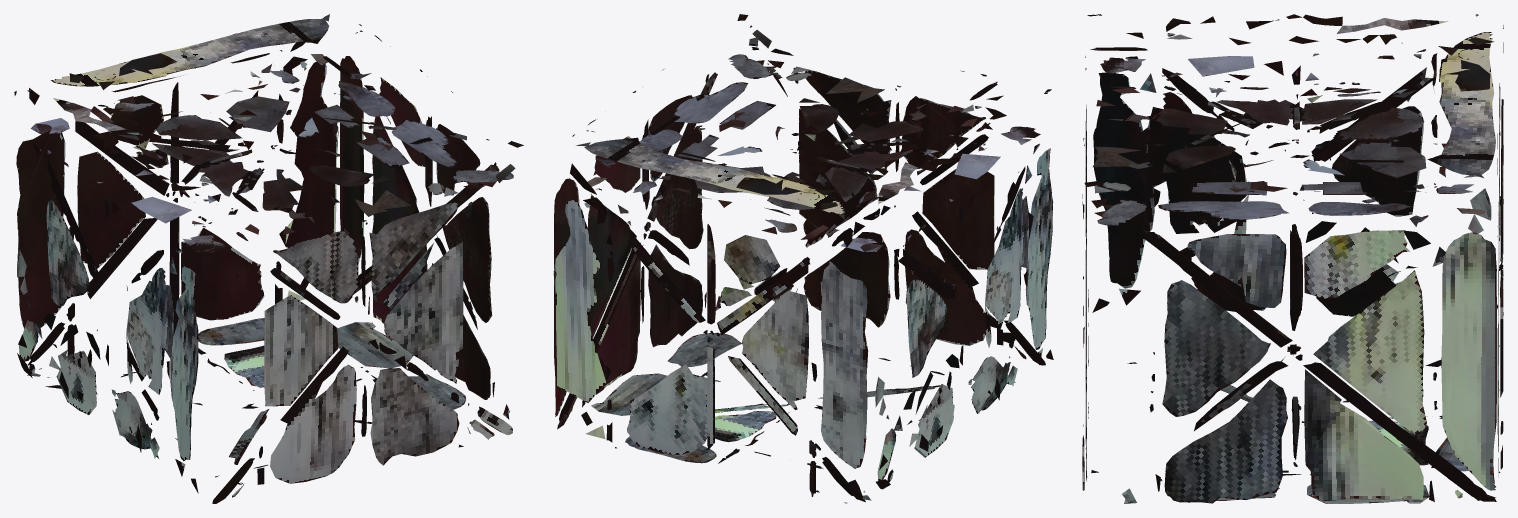
Rendered from Crate_QuadRetro.glb.
3 views of the same model, side by side, from view 1: azimuth 30°, elevation 25°; view 2: azimuth 150°, elevation 25°; view 3: azimuth 270°, elevation 25° (orthographic). The views are drawn at different scales.
Parts seen in each view (by area): view 1: Crate_QuadRemesh; view 2: Crate_QuadRemesh; view 3: Crate_QuadRemesh.
Boxes of the visible parts, x1,y1,x2,y2 form: Crate_QuadRemesh: (14,14,523,503); Crate_QuadRemesh: (553,14,1053,503); Crate_QuadRemesh: (1082,14,1503,503).
Size of the model in its own units: 2.3 by 1.99 by 2.32.
1 material, 1 textured.
